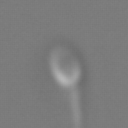normal: (57, 82, 98, 128)
